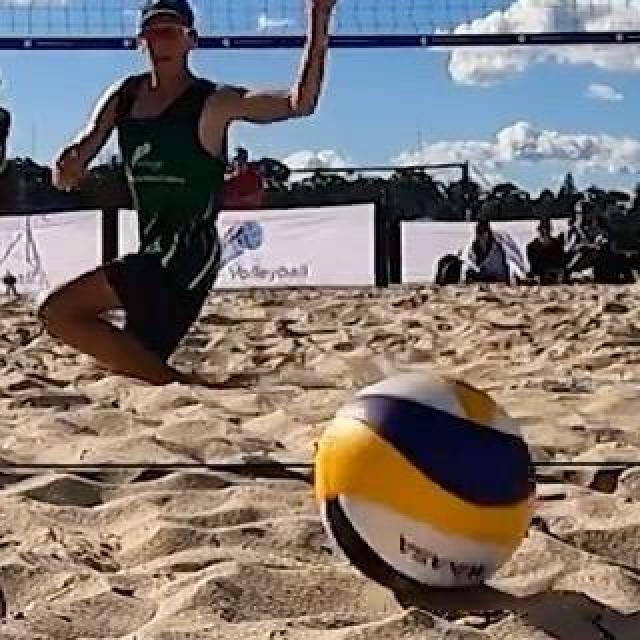volleyball: (315, 372, 535, 594)
